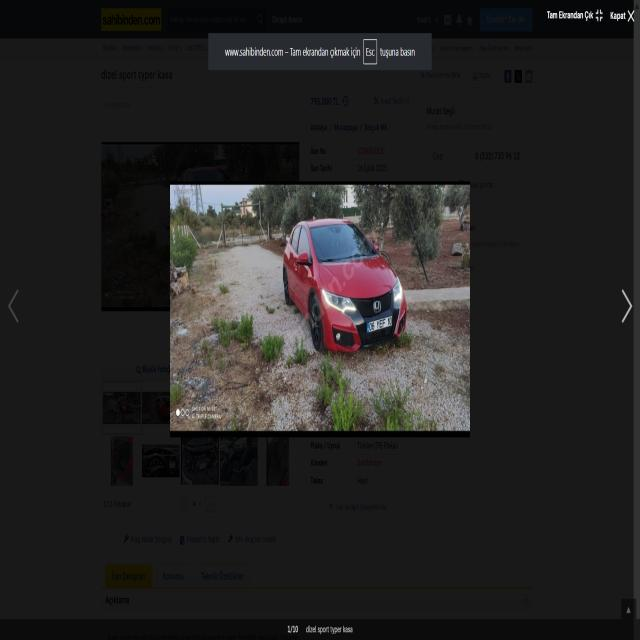honda: (368, 296, 388, 317)
